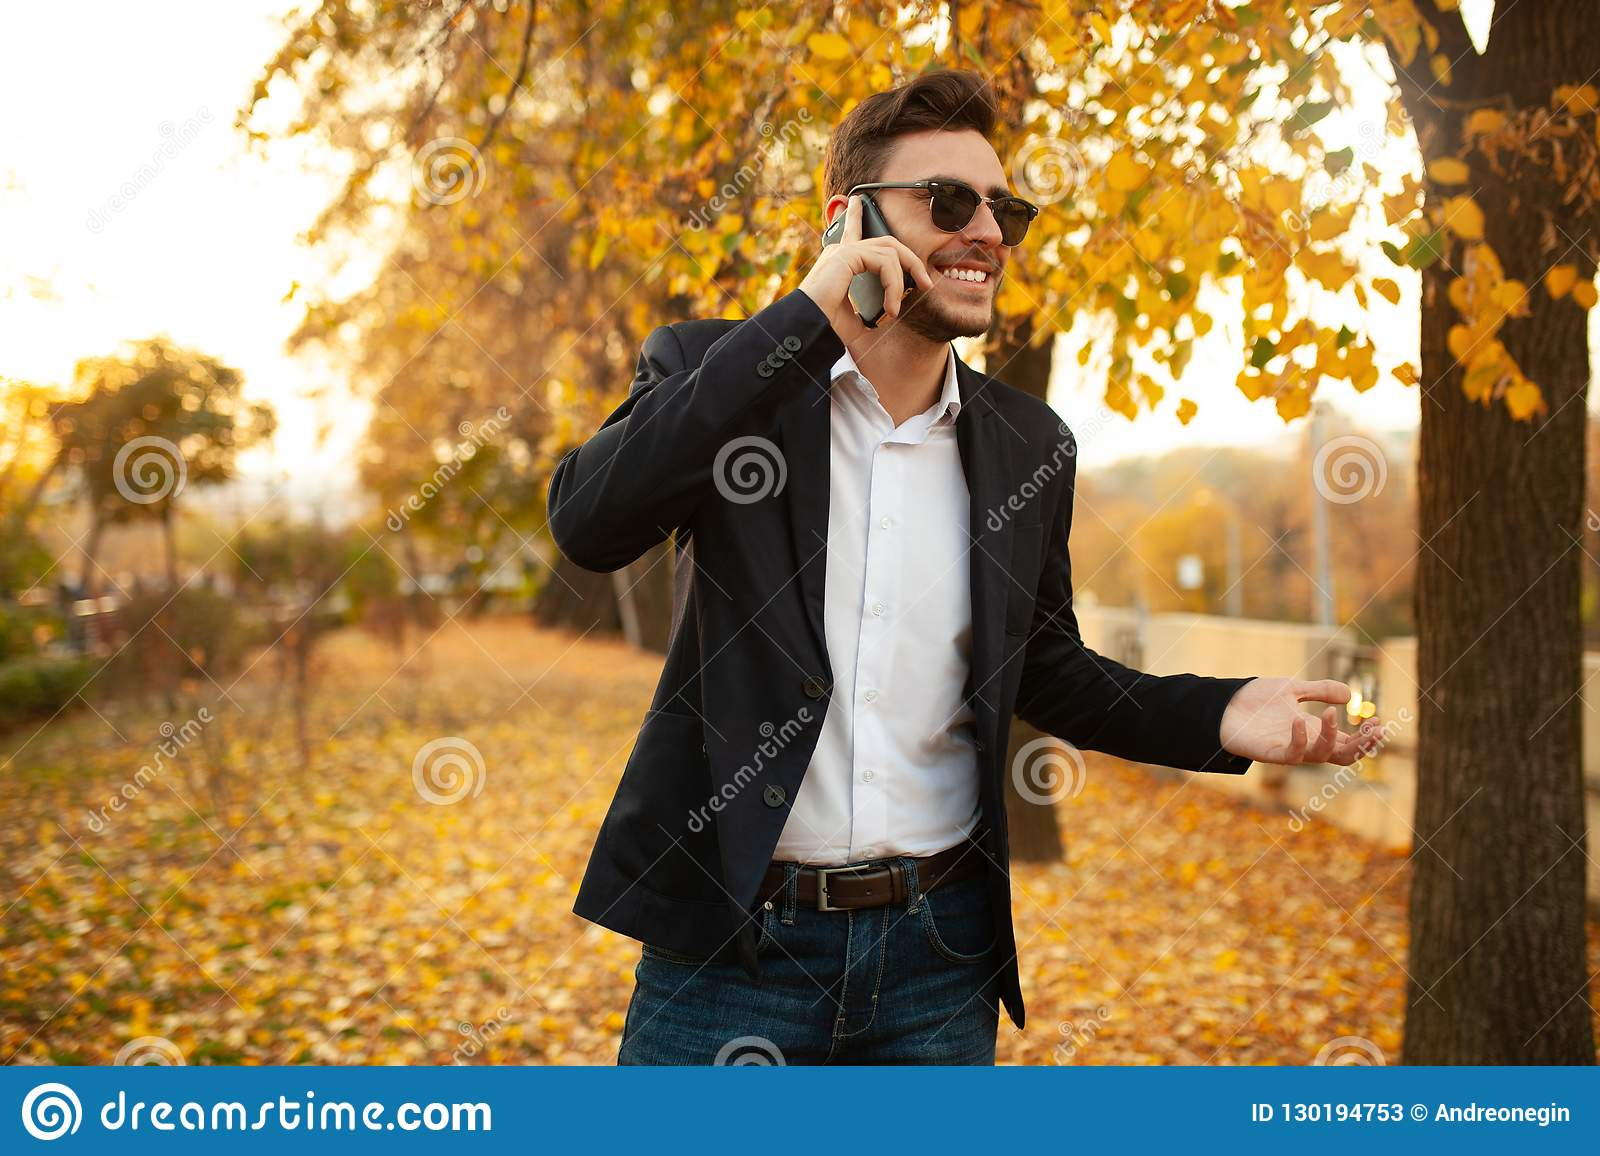phone: (820, 195, 918, 330)
talk: (802, 164, 1017, 365)
